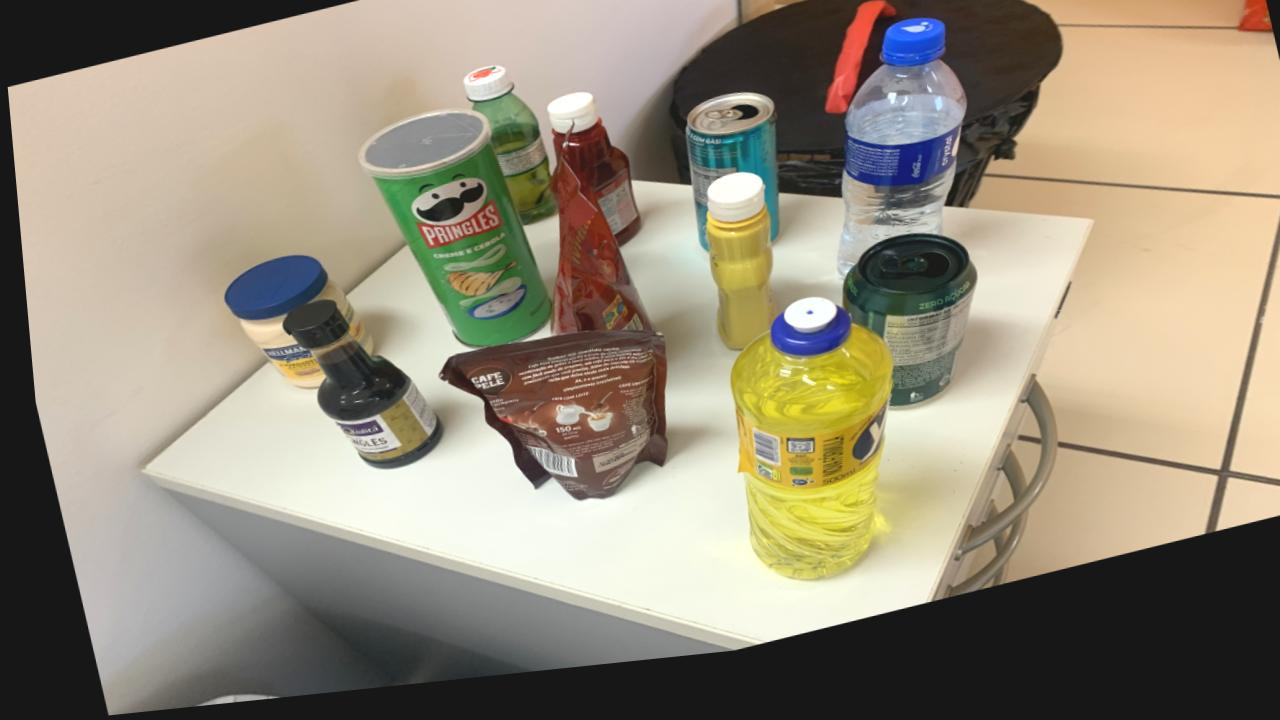Coffee-Pantry_Items: (432, 342, 659, 510), (593, 280, 595, 281)
Detergent-Cleanup_Items: (722, 313, 884, 596)
English_Sauce-Pantry_Items: (276, 306, 434, 476)
Guarana-Drinks: (460, 75, 553, 235)
Guarana_Can-Drinks: (835, 252, 971, 426), (759, 395, 766, 400), (812, 453, 817, 455)
Ketchup-Pantry_Items: (544, 104, 635, 258)
Mayonnaise-Pantry_Items: (217, 260, 367, 394), (363, 406, 366, 410)
Mustard-Pantry_Items: (699, 187, 768, 364)
Pringles-Snacks: (355, 118, 544, 357)
Tea-Drinks: (680, 107, 774, 262)
Tomato_Sauce-Pantry_Items: (543, 161, 644, 346)
Water_Bottle-Drinks: (830, 37, 963, 293)
